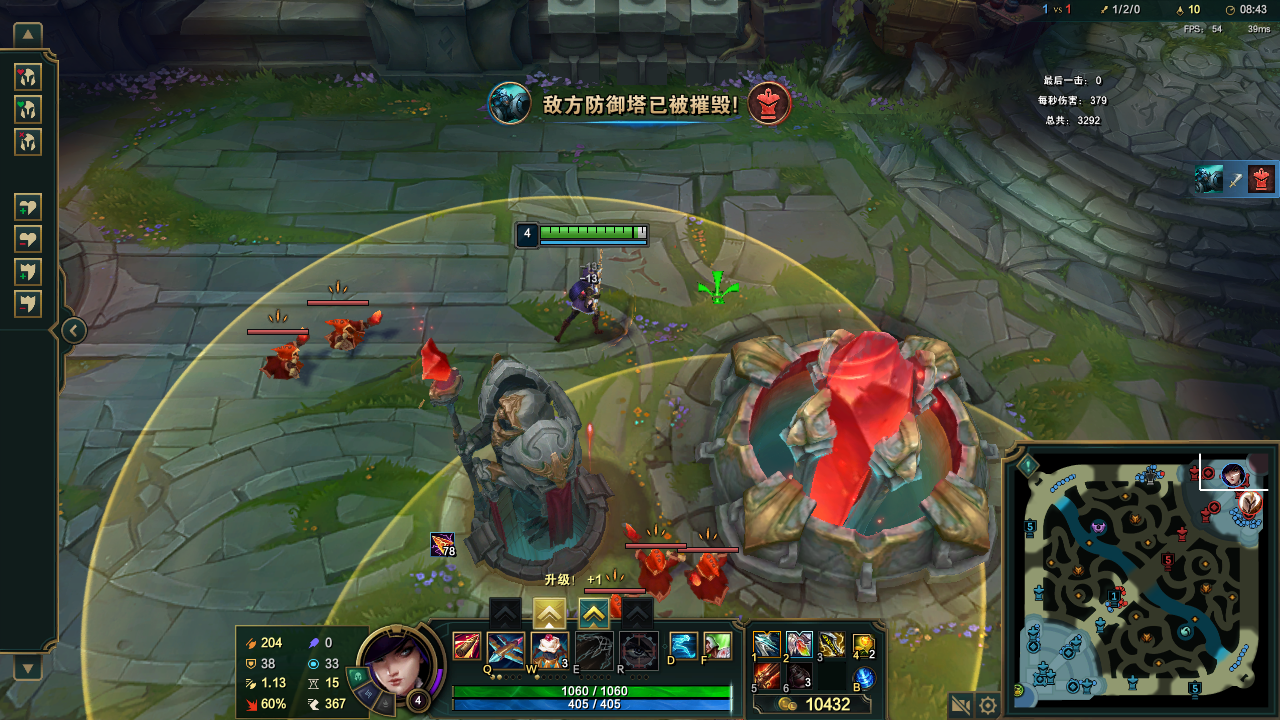DFDSJ: (725, 306, 973, 574)
DFFYT: (436, 353, 602, 559)
